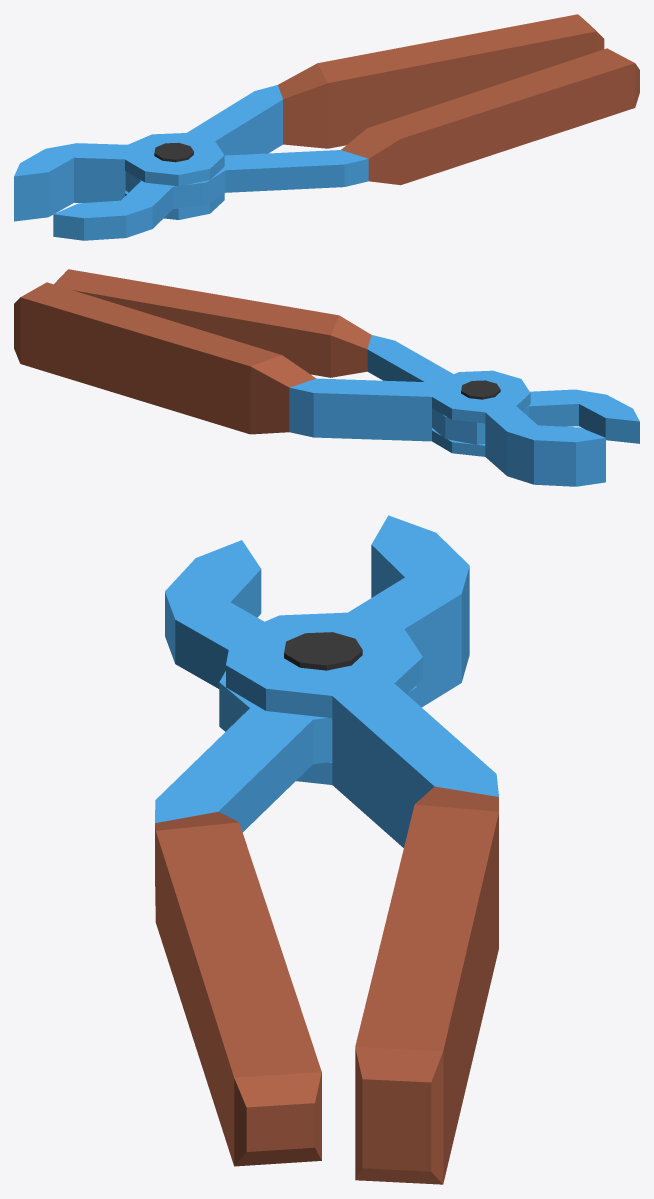
Rendered from Clamps_2.fbx.
3 renders of one model, top to bottom at view 1: azimuth 30°, elevation 25°; view 2: azimuth 150°, elevation 25°; view 3: azimuth 270°, elevation 25°, orthographic. The views are drawn at different scales.
Parts seen in each view (by area): view 1: Clamps_2.001, Arm_2.001; view 2: Clamps_2.001, Arm_2.001; view 3: Clamps_2.001, Arm_2.001.
Part boxes in pixels (bbox=[...]): Clamps_2.001: bbox=[14, 14, 604, 221]; Arm_2.001: bbox=[53, 48, 639, 240]; Clamps_2.001: bbox=[14, 282, 605, 486]; Arm_2.001: bbox=[54, 269, 639, 444]; Clamps_2.001: bbox=[226, 515, 498, 1184]; Arm_2.001: bbox=[155, 540, 416, 1166].
Bounding box in the file's own units: 73.87 × 8.24 × 18.86.
